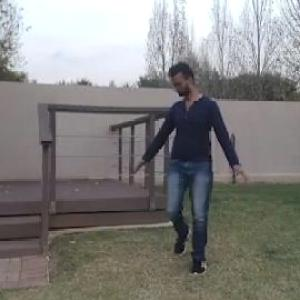land: (134, 57, 242, 281)
